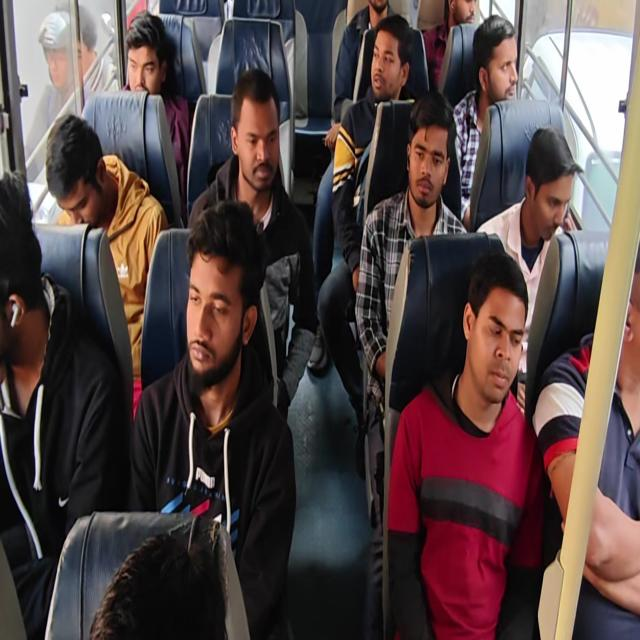person: (0, 176, 47, 365), (177, 238, 241, 370), (46, 125, 114, 242), (230, 82, 282, 210), (465, 274, 515, 396), (524, 140, 578, 252), (116, 22, 182, 107), (604, 246, 640, 399), (478, 15, 524, 114), (407, 118, 447, 207), (369, 40, 403, 97), (442, 0, 478, 37), (362, 0, 390, 10)
